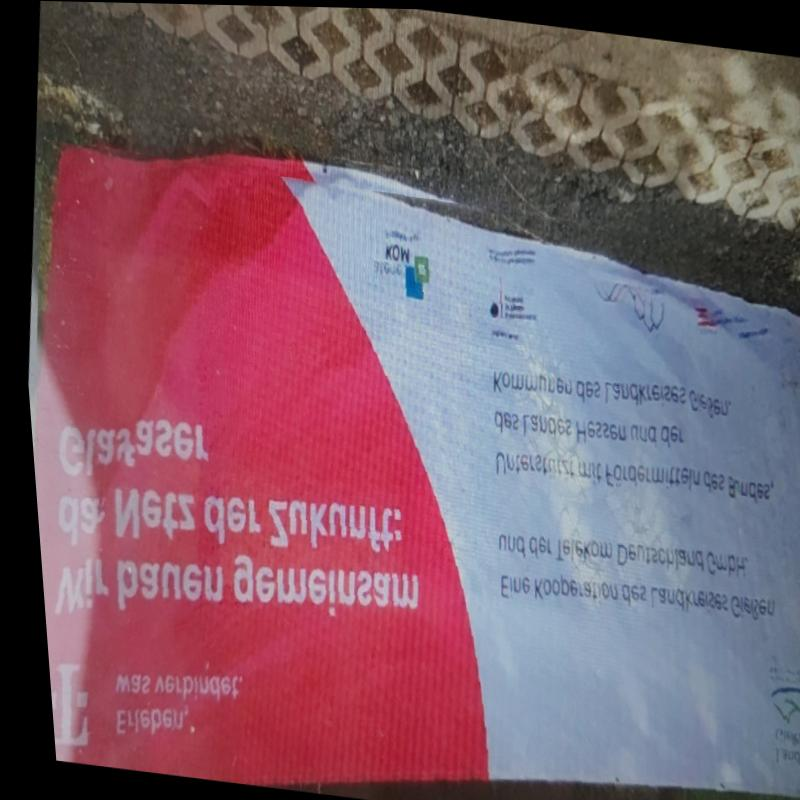Banner: (30, 141, 800, 790)
